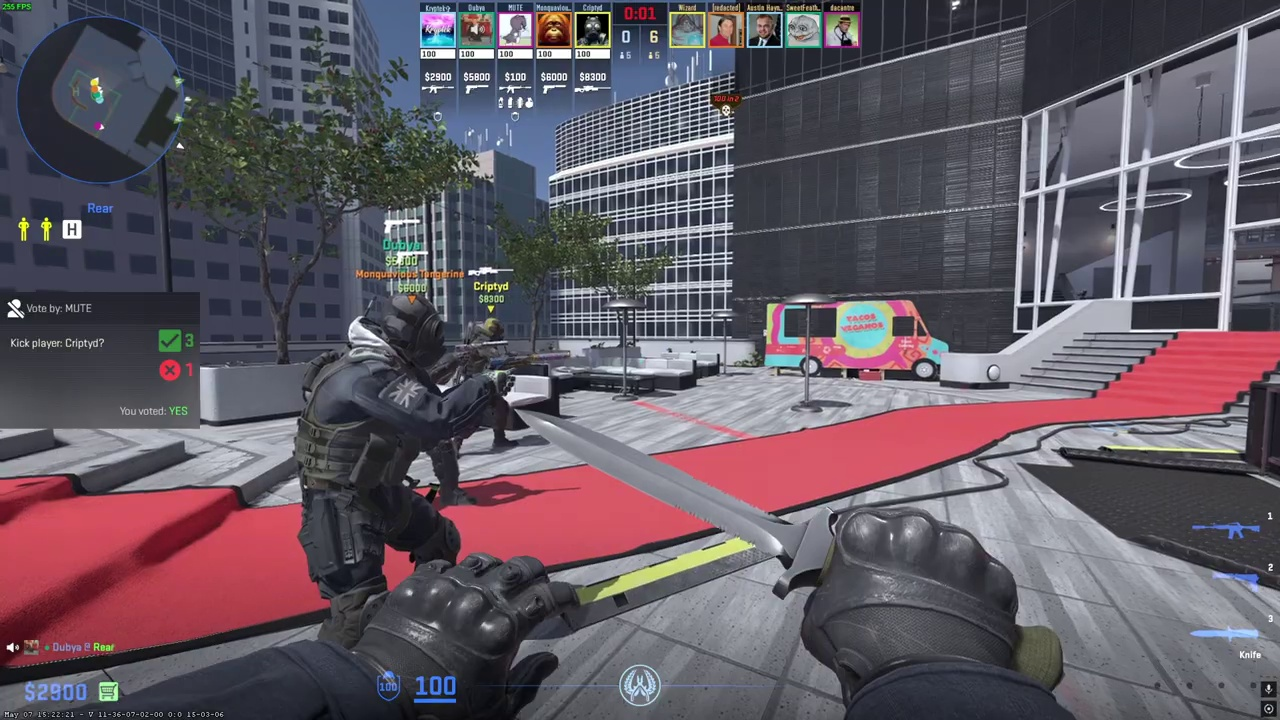CT: (292, 292, 475, 648), (453, 317, 520, 461)
